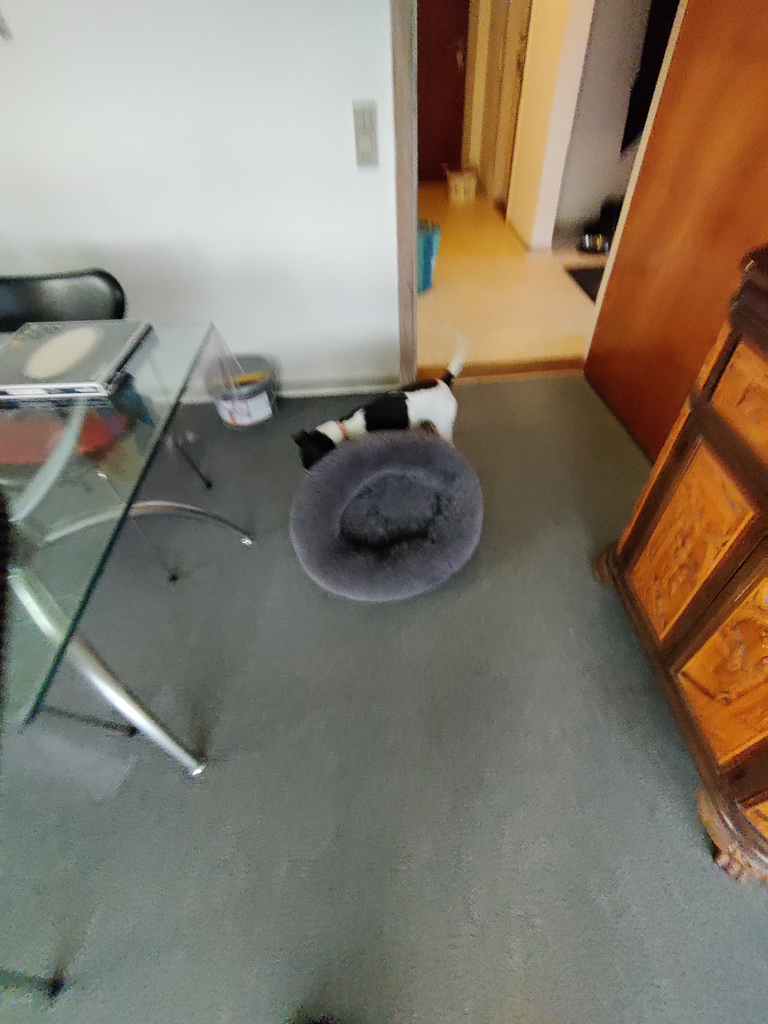Dog: (287, 325, 484, 472)
